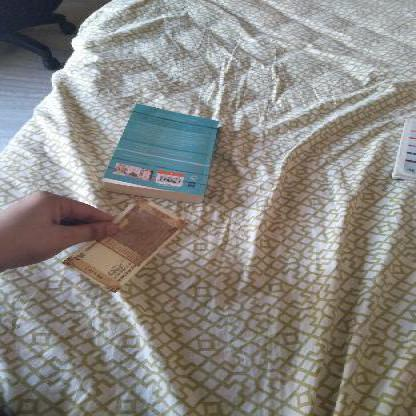New10Back: (70, 194, 183, 288)
